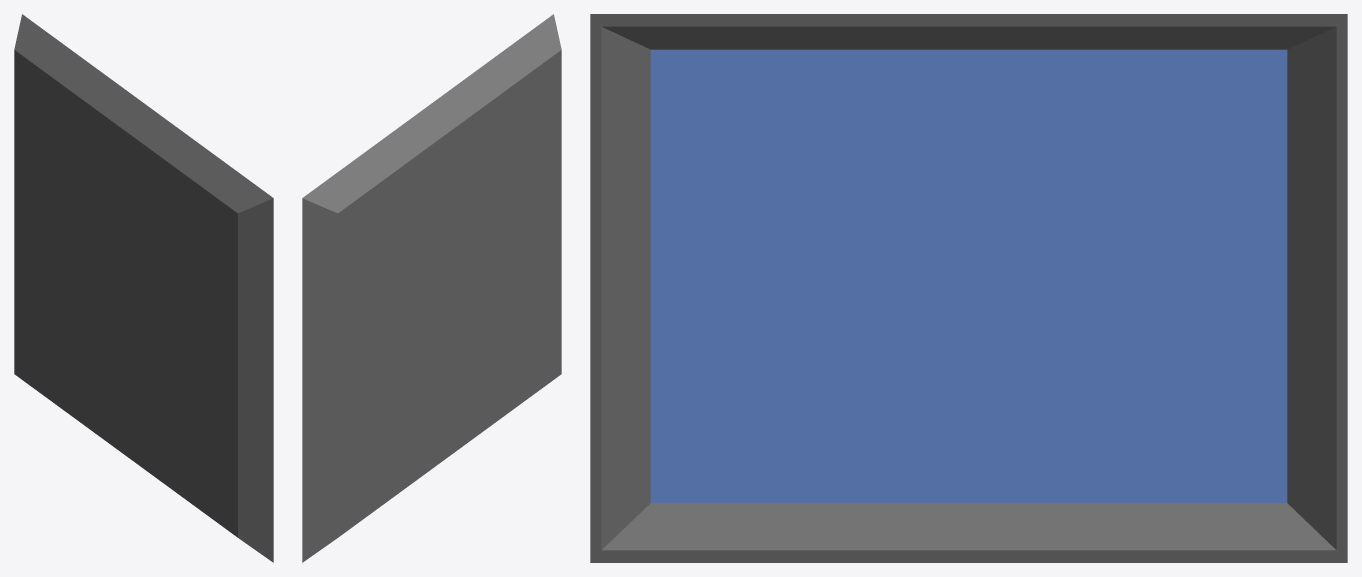
File: painting1.FBX
3 renders of one model, left to right at view 1: azimuth 30°, elevation 25°; view 2: azimuth 150°, elevation 25°; view 3: azimuth 270°, elevation 25°, orthographic. The views are drawn at different scales.
Parts seen in each view (by area): view 1: painting1; view 2: painting1; view 3: painting1.
Part boxes in pixels (x1,y1,x2,y2): painting1: (14,14,273,562); painting1: (302,14,561,562); painting1: (590,14,1347,562).
Bounding box in the file's own units: 10 × 160 × 200.
